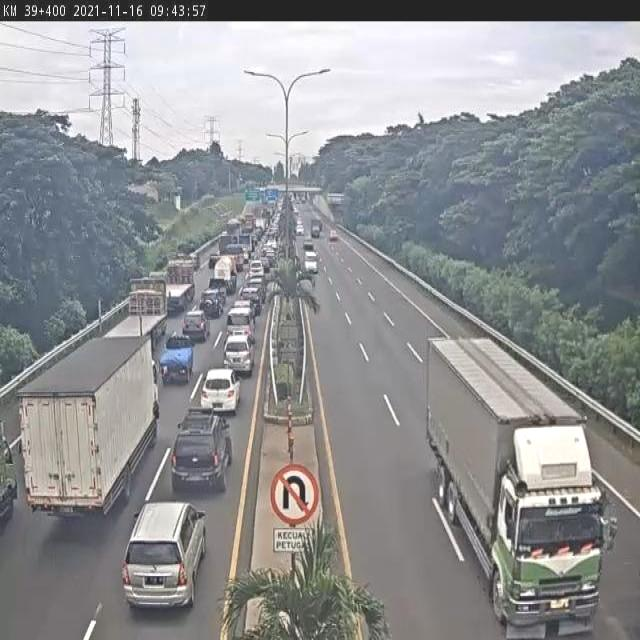Car: (122, 502, 206, 610), (169, 408, 234, 493), (199, 366, 241, 412), (158, 335, 194, 385), (223, 333, 255, 377), (182, 309, 210, 341), (226, 322, 254, 350), (226, 304, 254, 332), (200, 287, 227, 316), (239, 286, 262, 315), (304, 250, 318, 274), (249, 260, 264, 280), (329, 230, 338, 242), (296, 225, 304, 236)
Truck: (426, 333, 616, 637), (18, 330, 159, 522), (103, 278, 168, 339), (150, 259, 196, 311), (208, 256, 239, 288)
